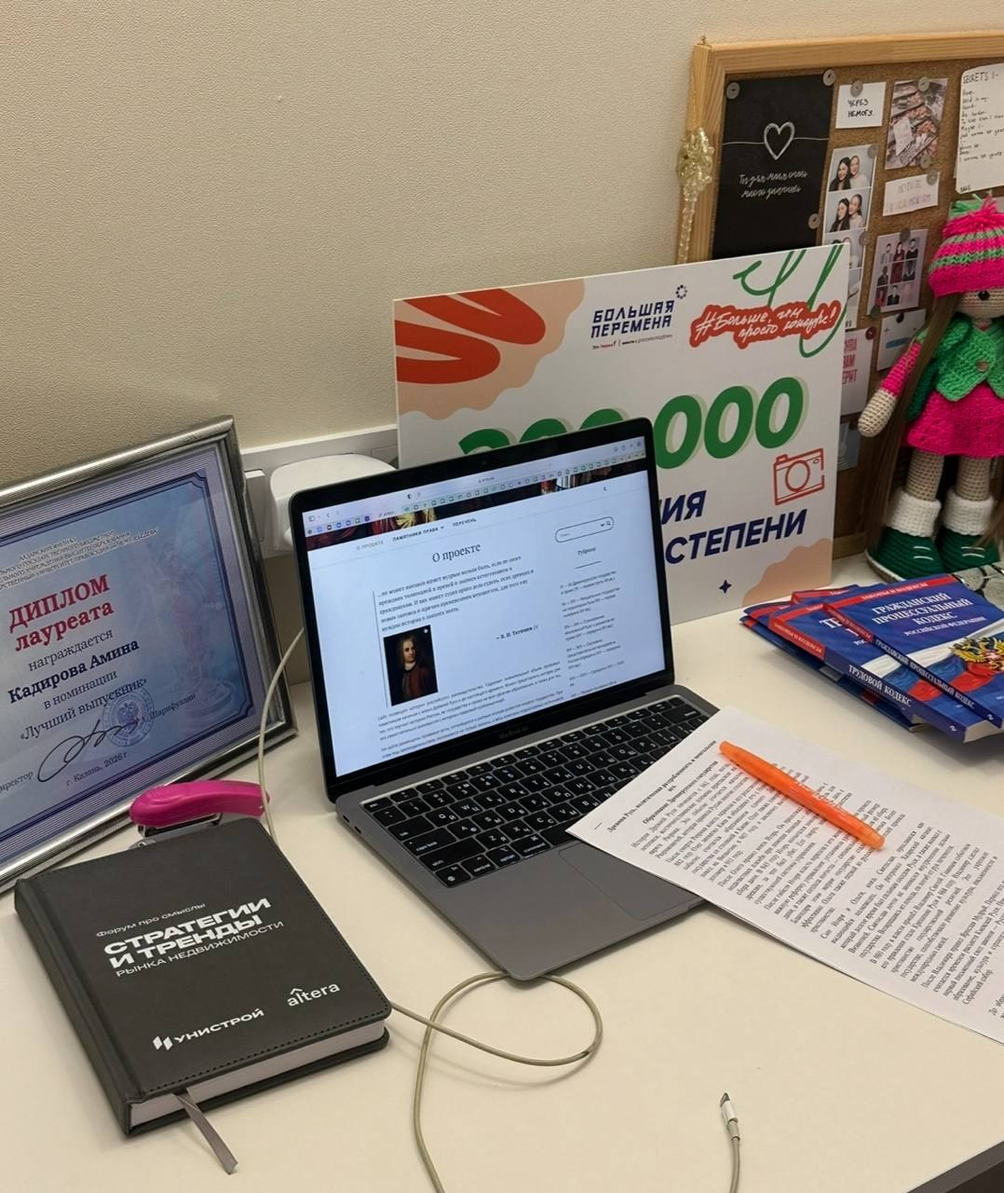laptop: (288, 417, 721, 982)
